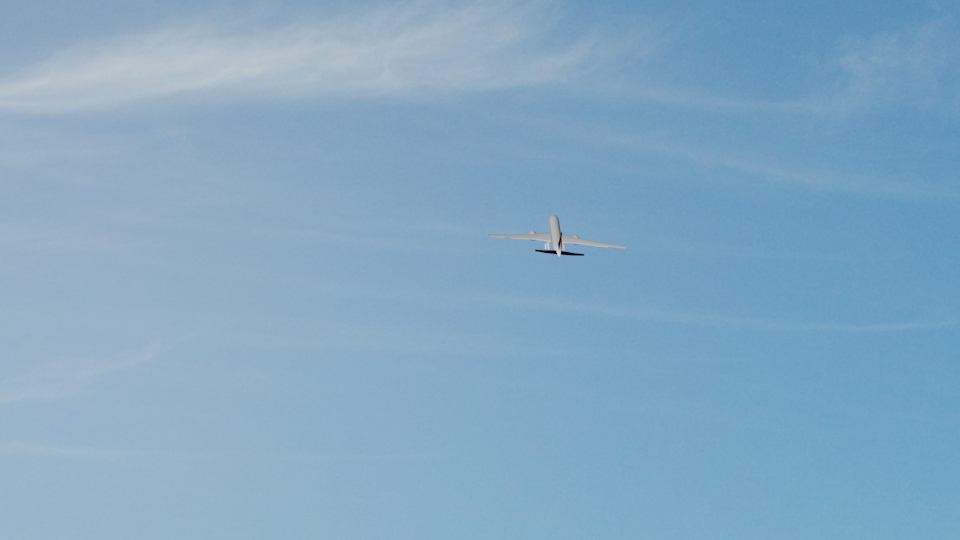plane: (486, 213, 629, 257)
